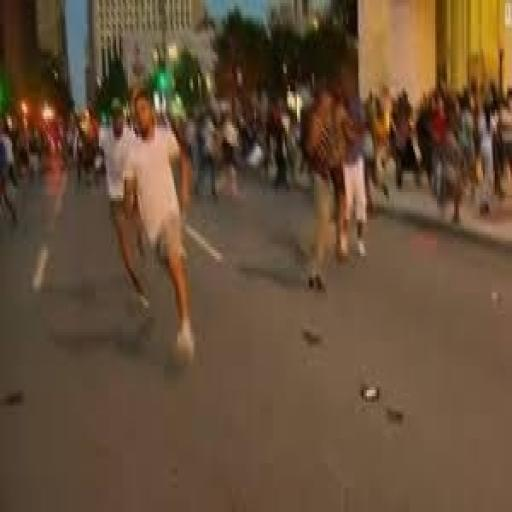running: (121, 82, 200, 369)
